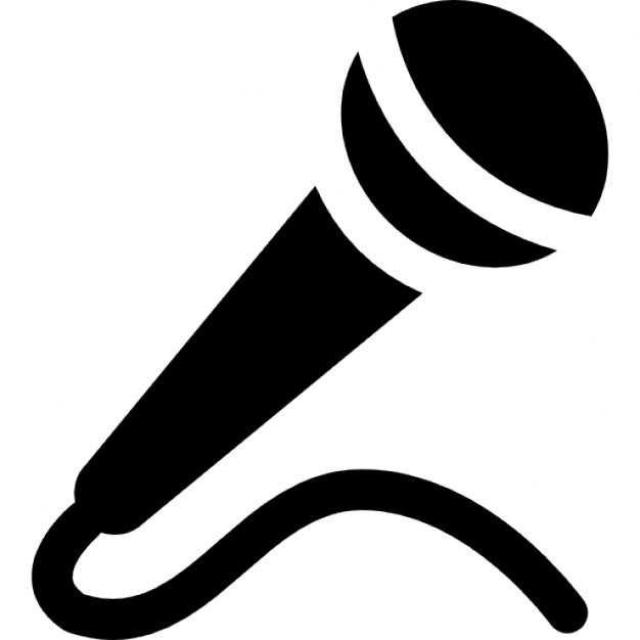microphone: (63, 0, 606, 523)
